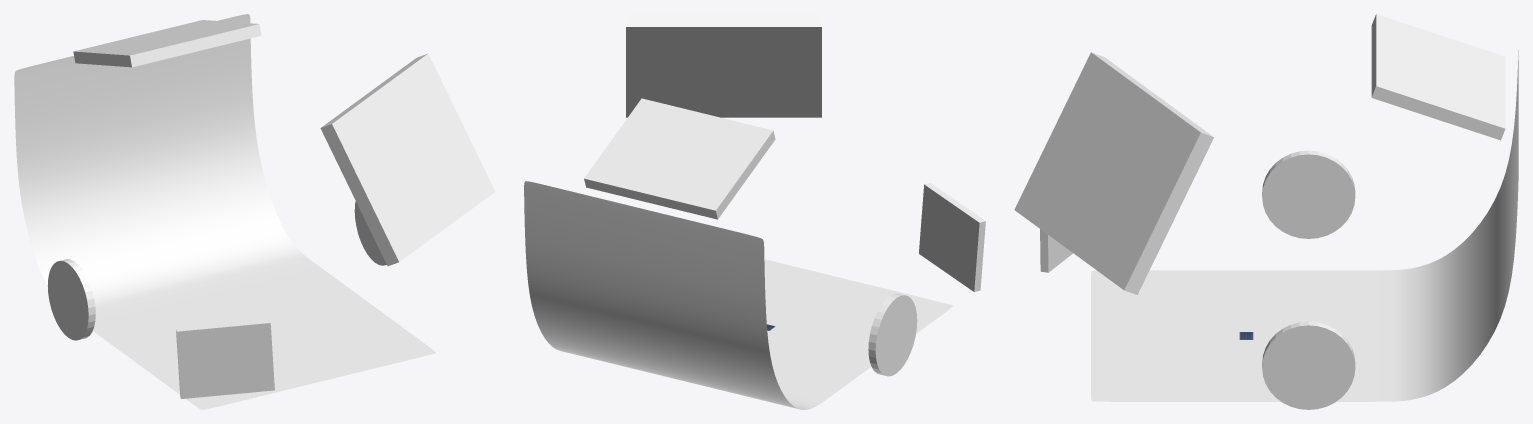
The model's file is Solar_Panel_Plate 2.fbx.
3 views of the same model, side by side, from view 1: azimuth 30°, elevation 25°; view 2: azimuth 150°, elevation 25°; view 3: azimuth 270°, elevation 25° (orthographic). The views are drawn at different scales.
Parts seen in each view (by area): view 1: Ground, Light_Key, Light_Key_Fill_Front, Light_Back, Light_Fill_Left, Light_Fill_Right; view 2: Ground, Light_Key, Light_Back, Light_Key_Fill_Front, Light_Fill_Left; view 3: Ground, Light_Key, Light_Back, Light_Fill_Right, Light_Fill_Left, Light_Key_Fill_Front.
Part boxes in pixels (left/top/right/bottom): Ground: left=14, top=14, right=435, bottom=409; Light_Key: left=320, top=53, right=495, bottom=266; Light_Key_Fill_Front: left=176, top=319, right=274, bottom=398; Light_Back: left=73, top=20, right=261, bottom=67; Light_Fill_Left: left=47, top=259, right=95, bottom=340; Light_Fill_Right: left=354, top=201, right=386, bottom=265; Ground: left=524, top=181, right=952, bottom=409; Light_Key: left=626, top=14, right=821, bottom=117; Light_Back: left=584, top=98, right=775, bottom=219; Light_Key_Fill_Front: left=919, top=183, right=985, bottom=291; Light_Fill_Left: left=868, top=293, right=917, bottom=376; Ground: left=1091, top=50, right=1518, bottom=401; Light_Key: left=1014, top=52, right=1213, bottom=294; Light_Back: left=1371, top=14, right=1505, bottom=140; Light_Fill_Right: left=1262, top=321, right=1355, bottom=409; Light_Fill_Left: left=1262, top=150, right=1355, bottom=238; Light_Key_Fill_Front: left=1040, top=229, right=1072, bottom=272.
Bounding box in the file's own units: 1468 × 1031 × 1621.
